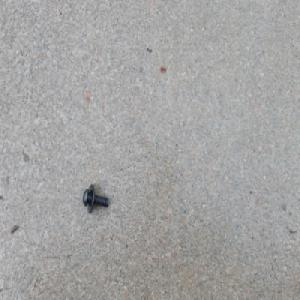BoltWasher: (82, 182, 108, 212)
